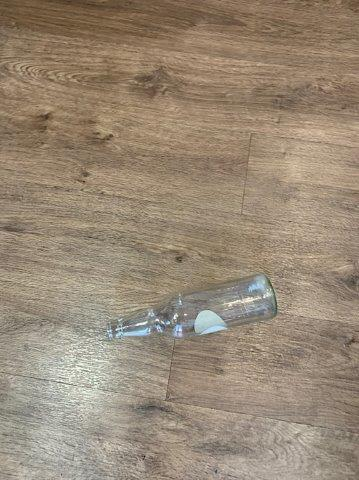botolkaca: (106, 275, 278, 338)
